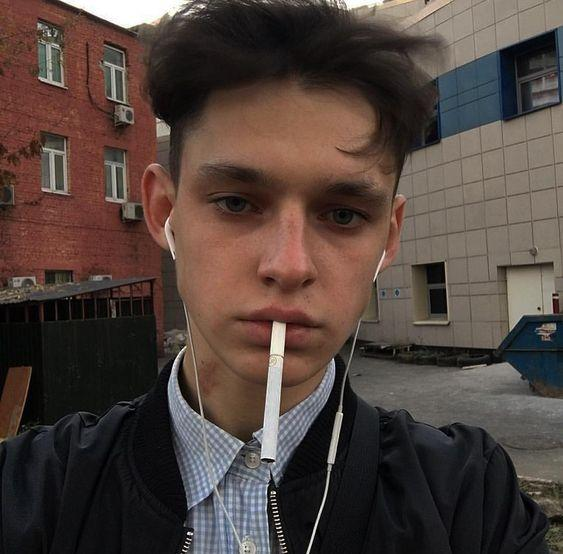cigarette: (261, 320, 286, 462)
